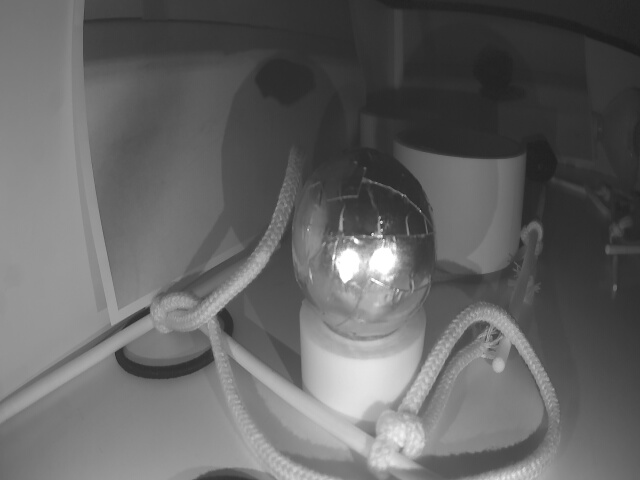Dead: (527, 142, 556, 180)
Live: (296, 147, 427, 321)
